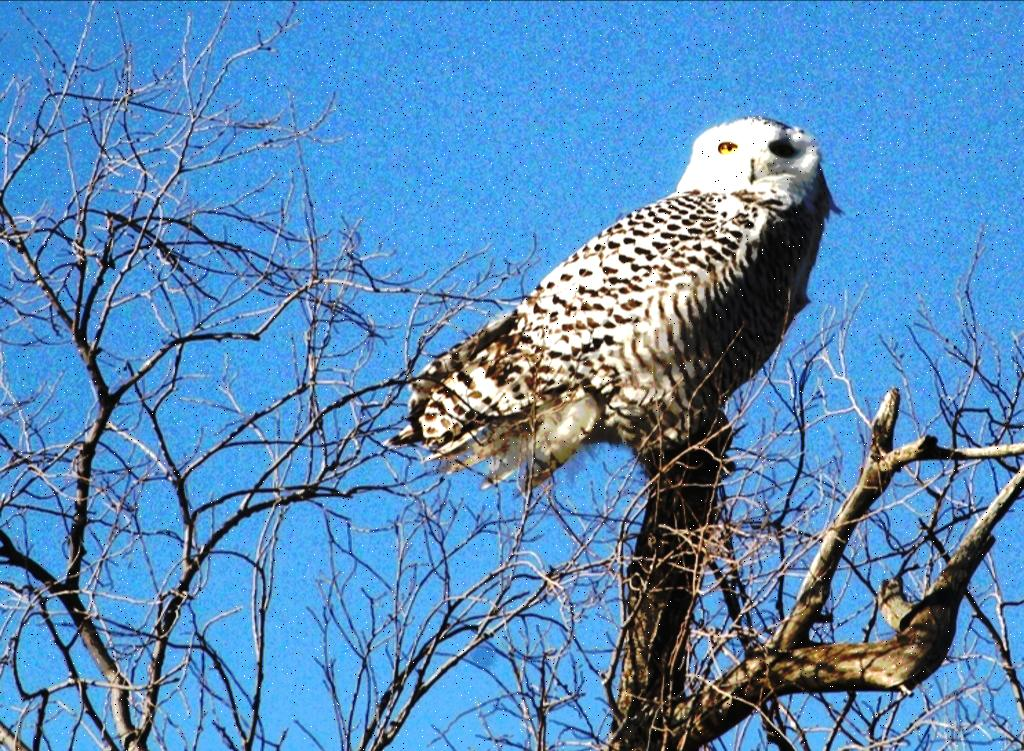Owl: (383, 118, 853, 497)
